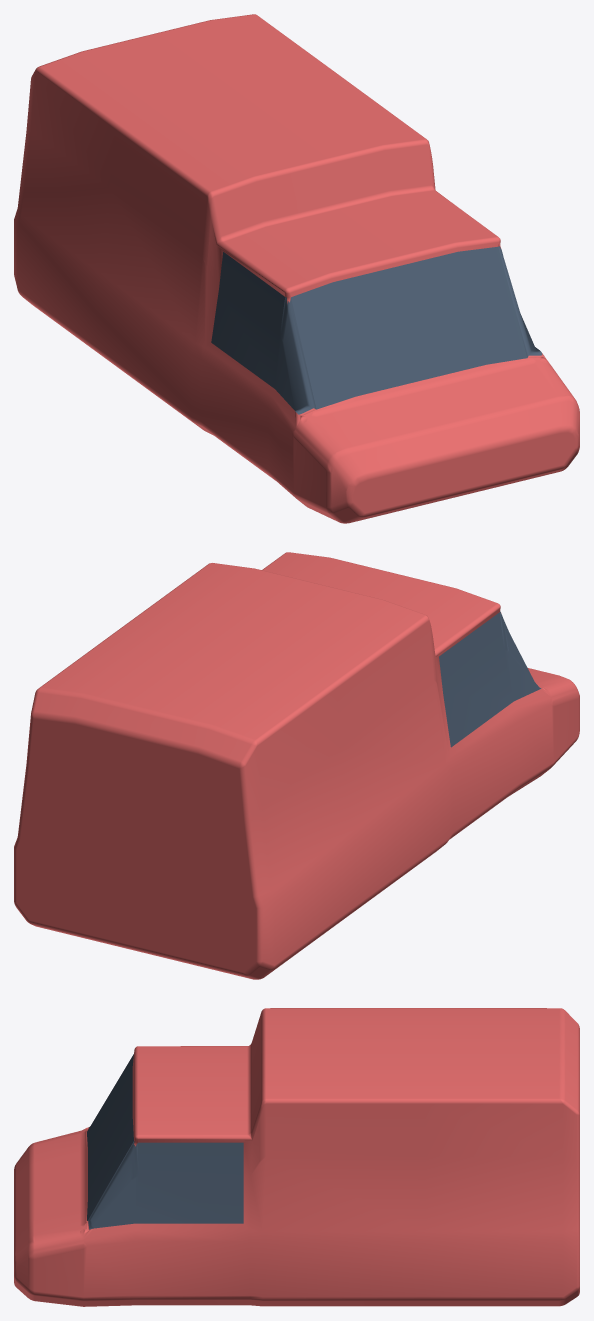
File: ambulans_shell.fbx
3 views of the same model, one above another, from view 1: azimuth 30°, elevation 25°; view 2: azimuth 150°, elevation 25°; view 3: azimuth 270°, elevation 25° (orthographic). The views are drawn at different scales.
Visible parts, largest first — view 1: ShellBody, ShellGlass; view 2: ShellBody, ShellGlass; view 3: ShellBody, ShellGlass.
Boxes of the visible parts, x1=… form: ShellBody: x1=14, y1=14, x2=579, y2=523; ShellGlass: x1=211, y1=246, x2=542, y2=414; ShellBody: x1=14, y1=552, x2=579, y2=979; ShellGlass: x1=439, y1=611, x2=541, y2=747; ShellBody: x1=14, y1=1008, x2=579, y2=1306; ShellGlass: x1=87, y1=1054, x2=243, y2=1229.
Bounding box in the file's own units: 7.6 × 6.8 × 16.6.
